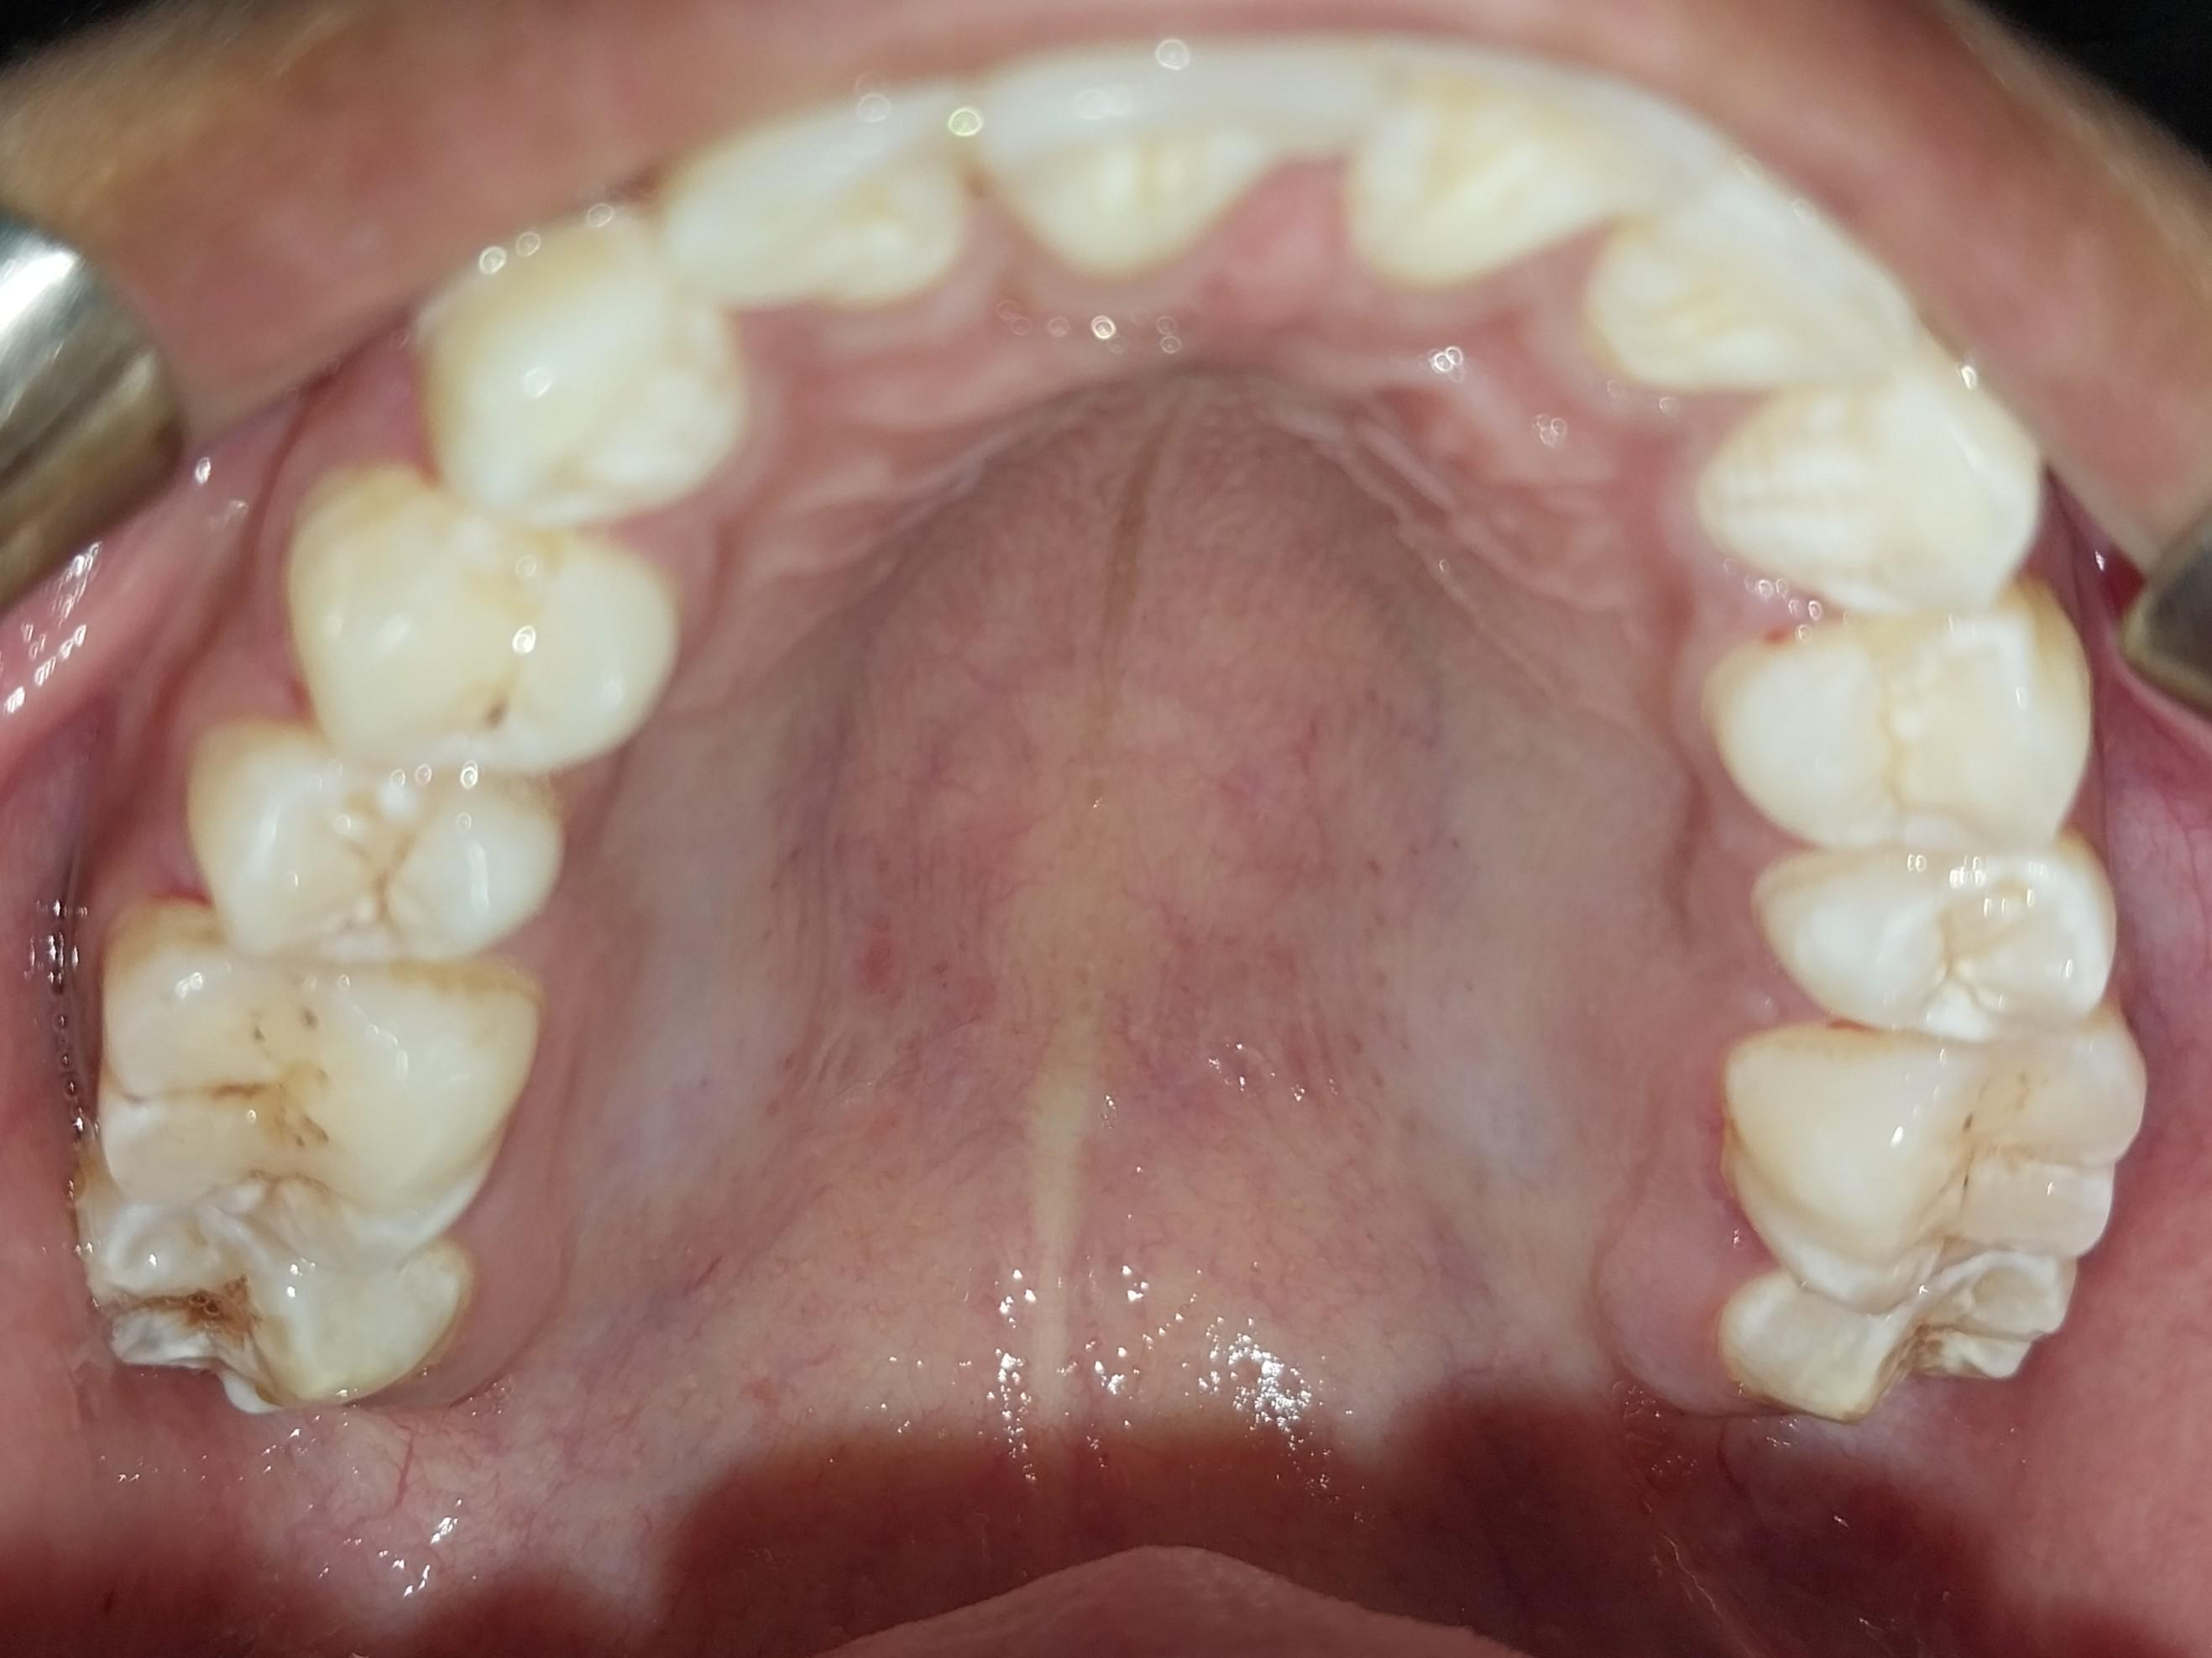D: (77, 1191, 457, 1415)
